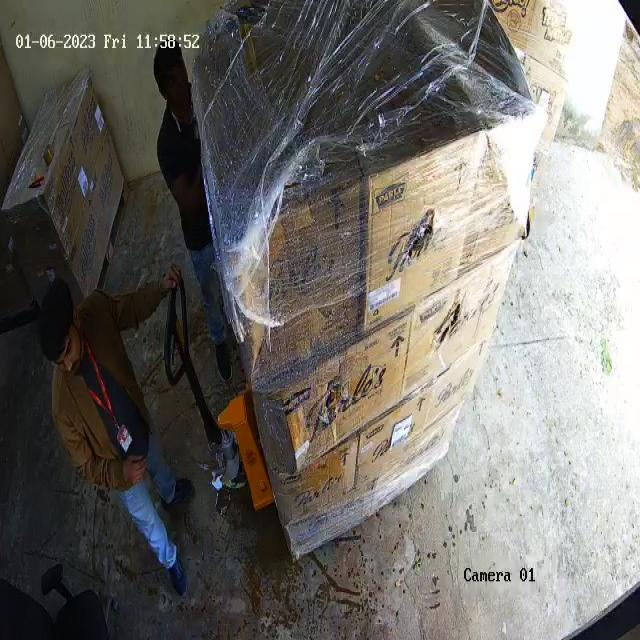leakage: (497, 91, 538, 237), (310, 375, 344, 438), (395, 213, 435, 261), (429, 304, 459, 352)
